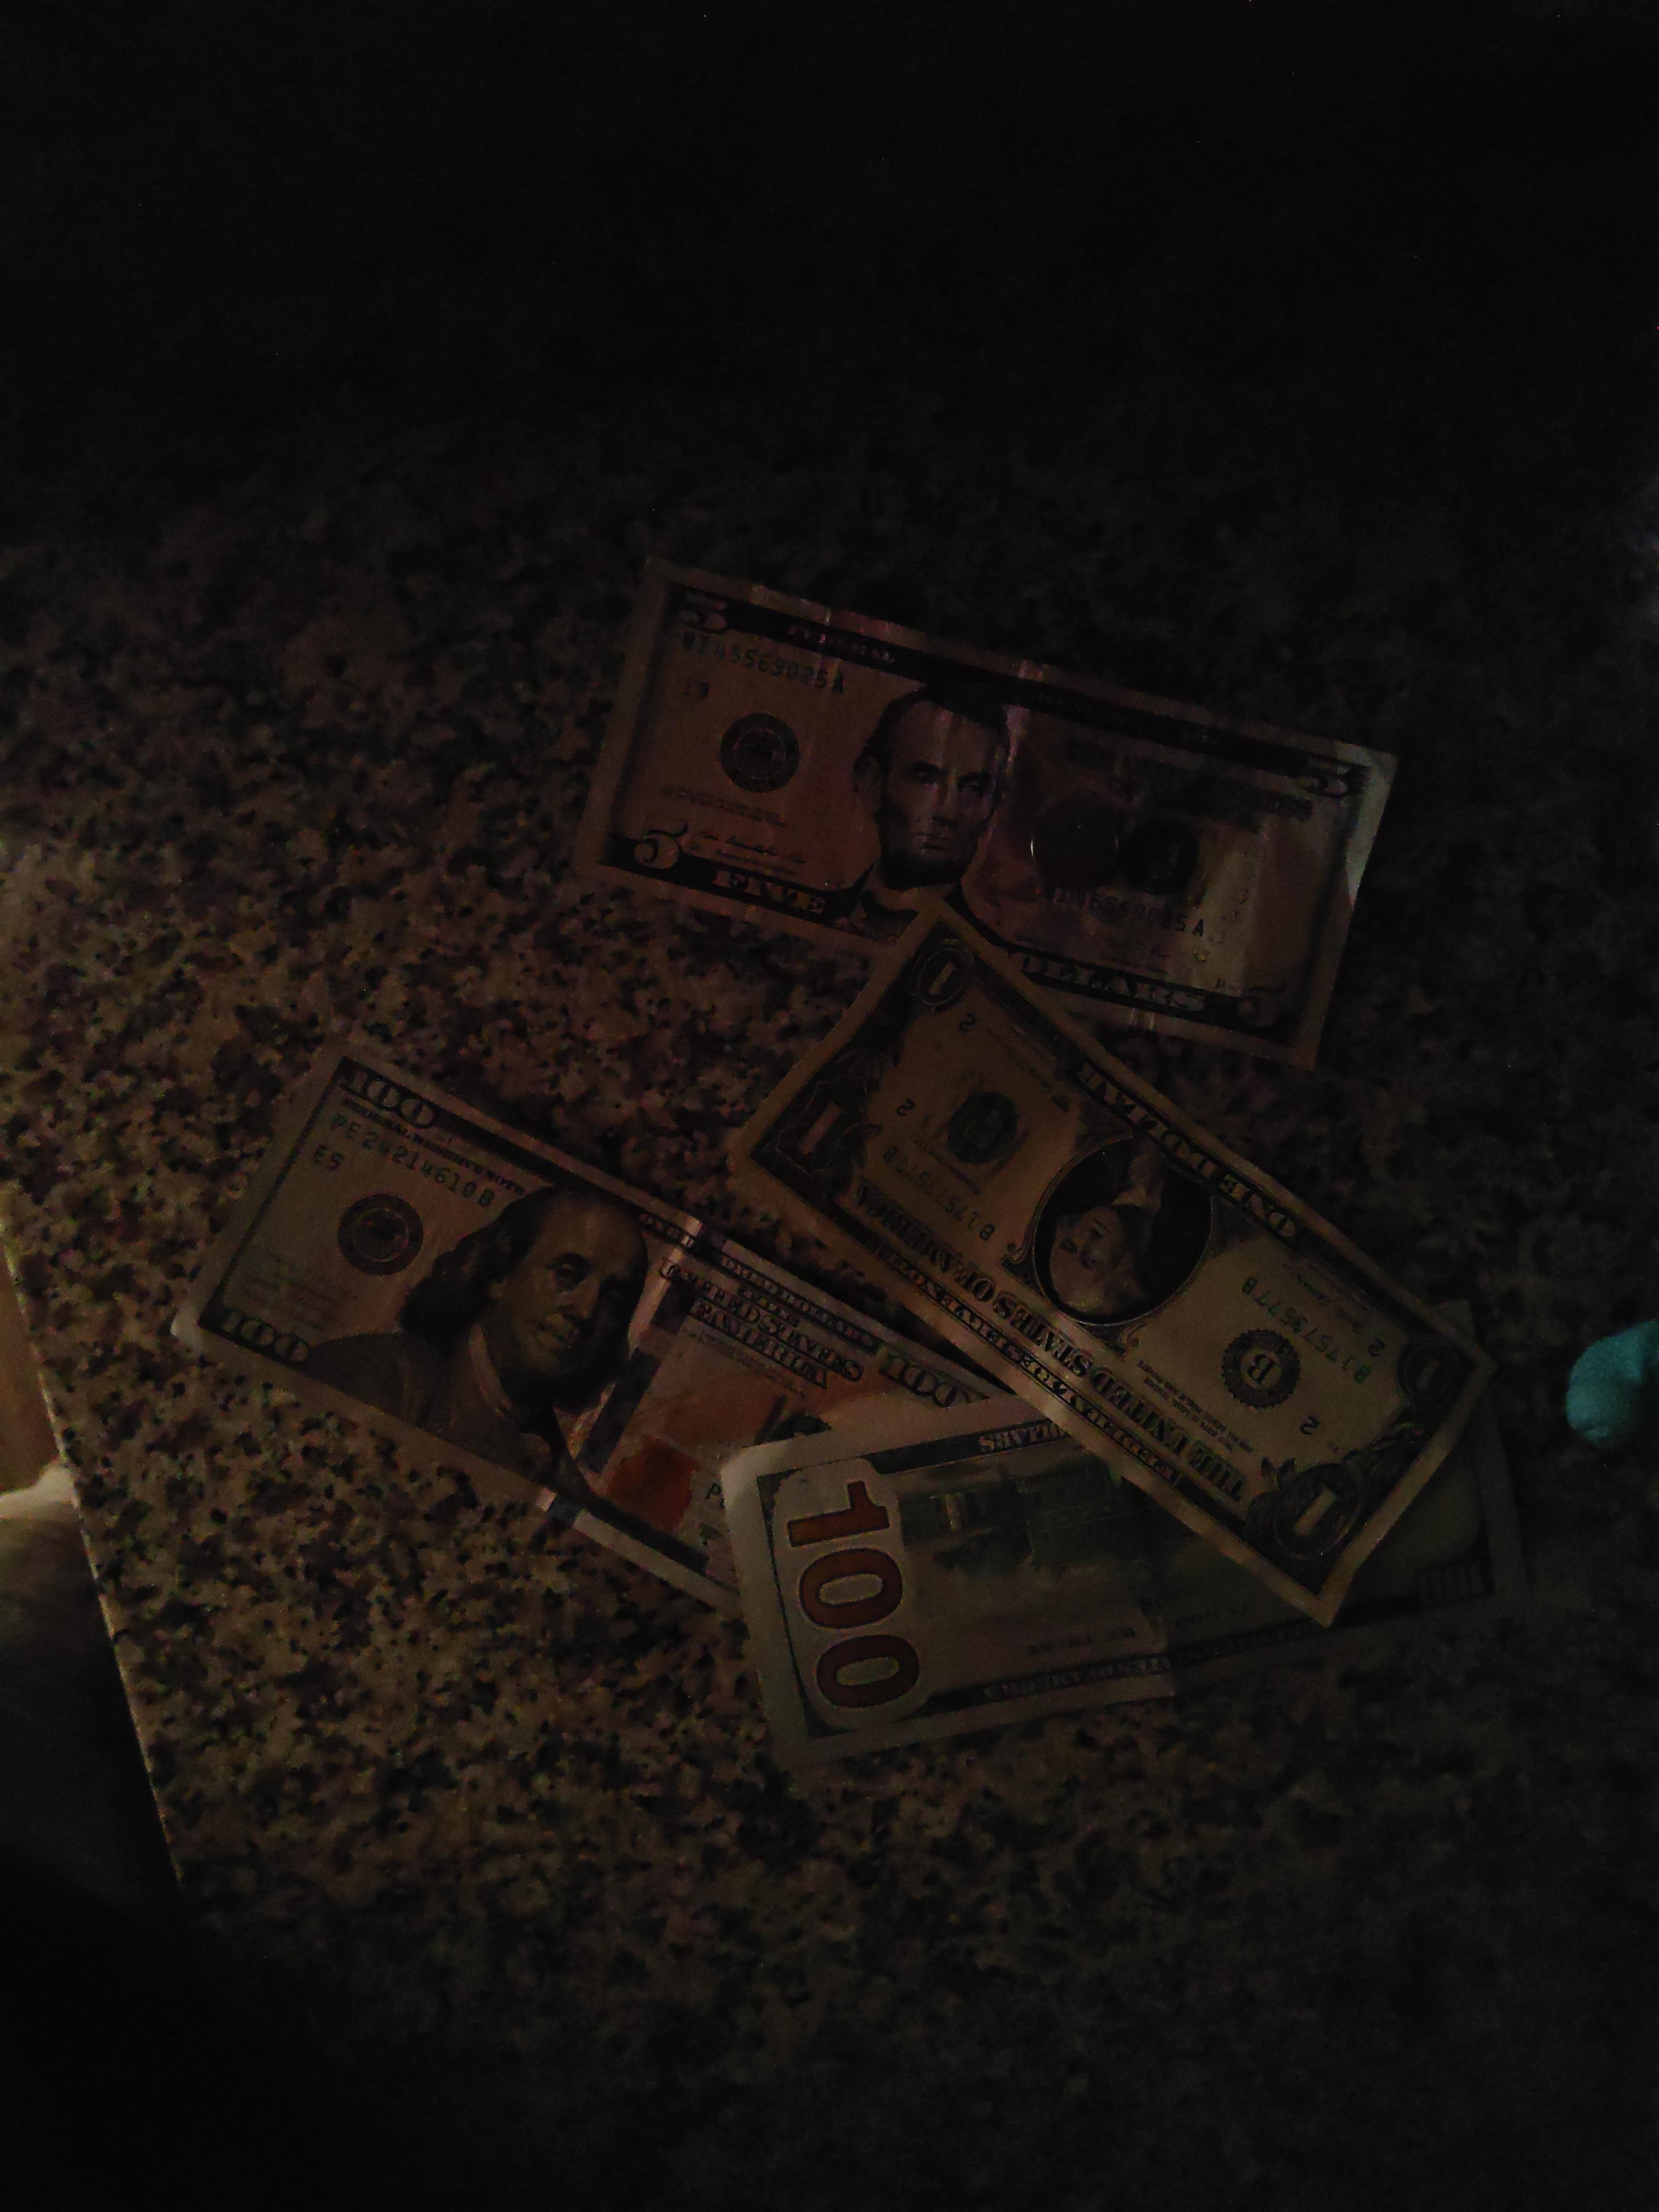Dime: (1023, 798, 1129, 892)
FiveBill: (570, 554, 1401, 1075)
HundredBill: (167, 1040, 1018, 1620), (721, 1294, 1532, 1770)
OneBill: (721, 900, 1506, 1630)
